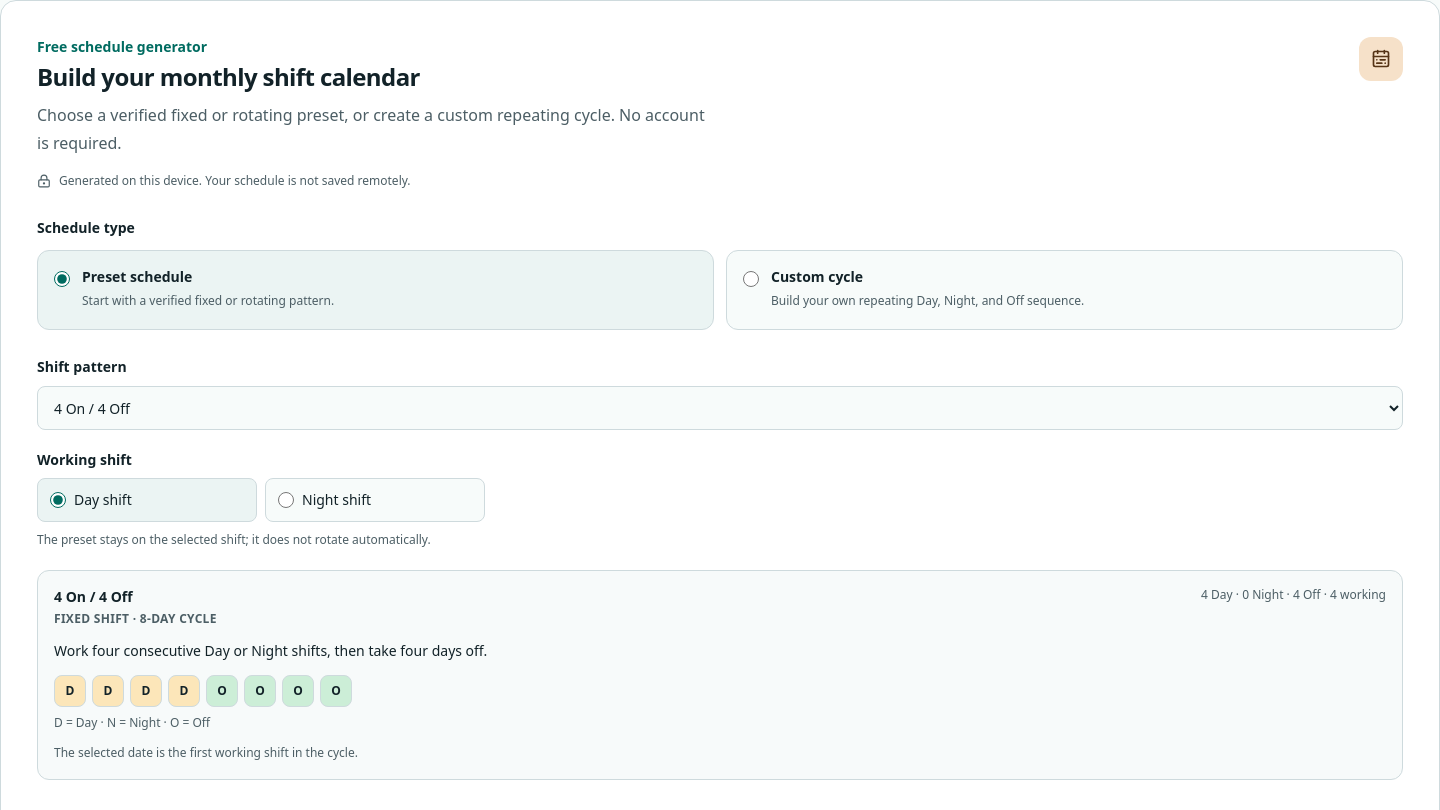
Test: generator form › lets preset users choose a fixed night shift
The image size is (1440, 810).
Click the radio button labelled "Night shift".
click(286, 500)  # box [278,492,294,508]
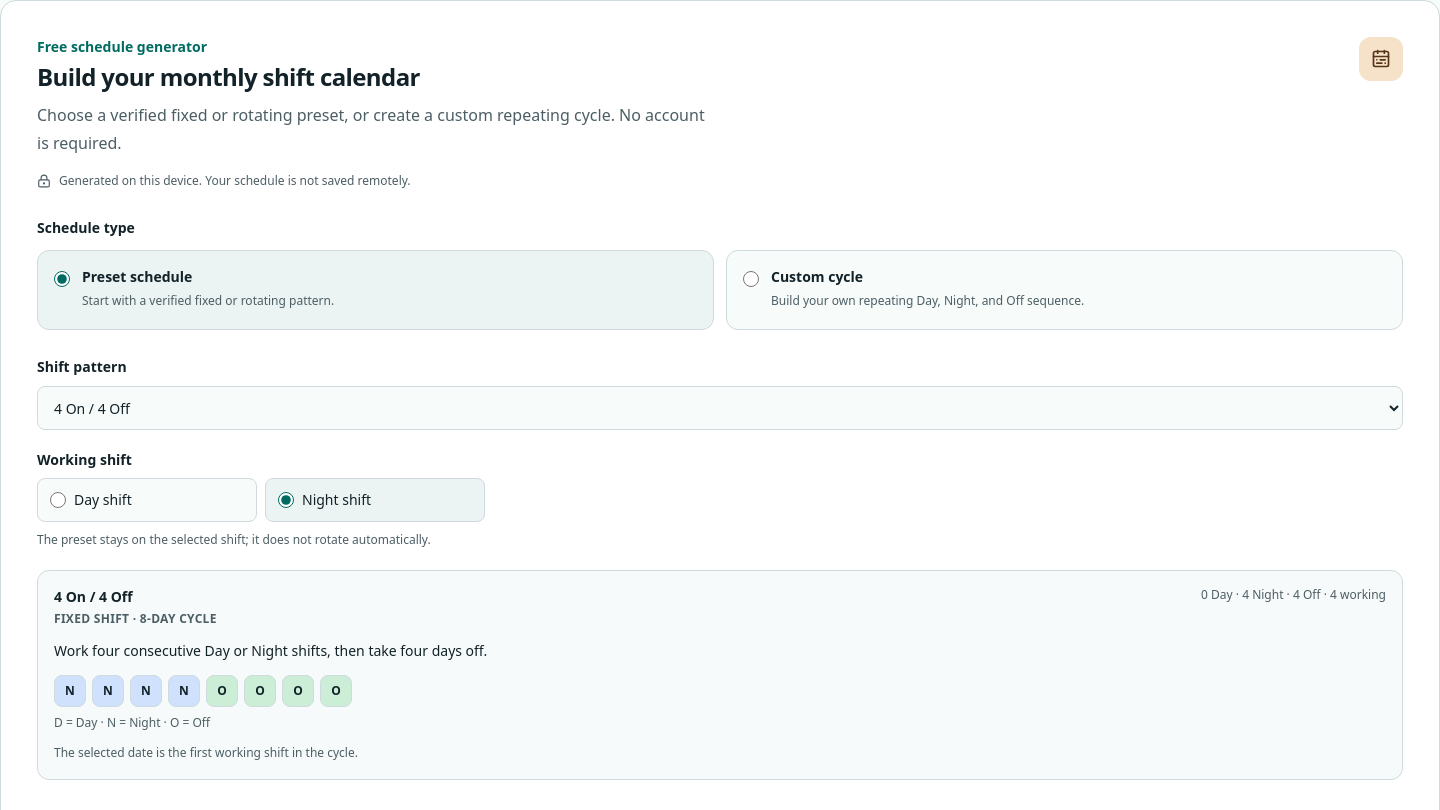
expect the radio button labelled "Night shift" is checked: met, box [278,492,294,508]
expect the radio button labelled "Day shift" is not checked: met, box [50,492,66,508]
